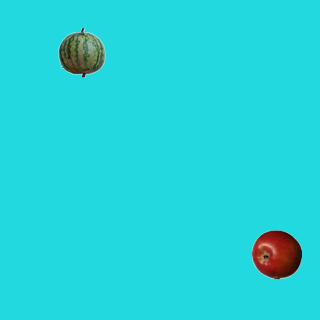Apple Braeburn: (251, 229, 301, 279)
Watermelon: (56, 27, 106, 77)
